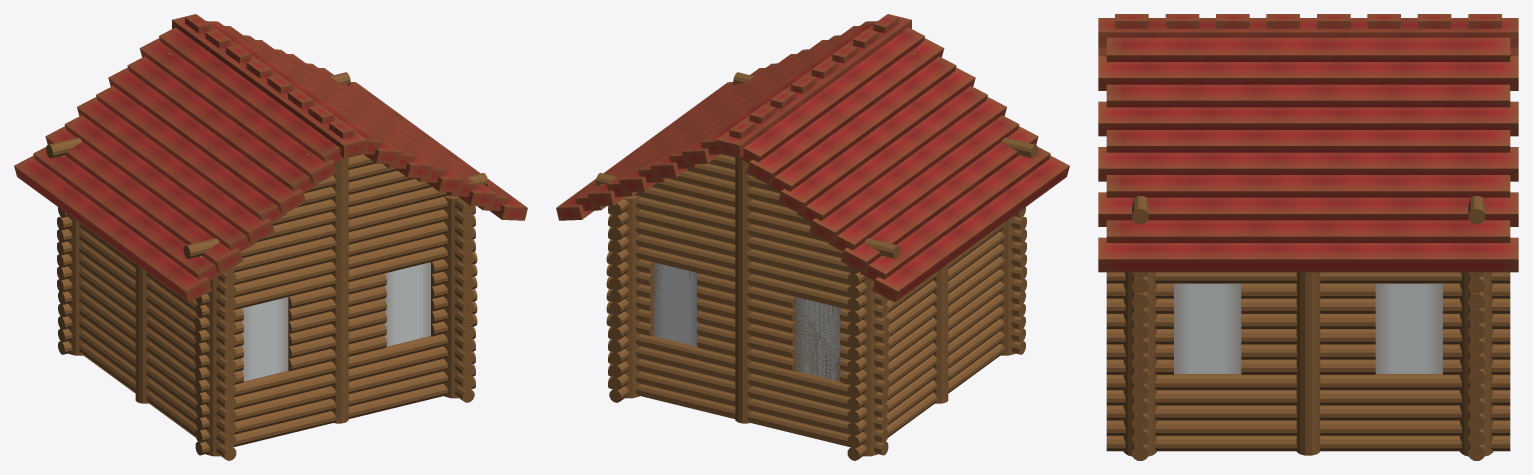
The picture shows the model from 3 angles, left to right: view 1: azimuth 30°, elevation 25°; view 2: azimuth 150°, elevation 25°; view 3: azimuth 270°, elevation 25°; orthographic projection. The views are drawn at different scales.
Visible parts, largest first — view 1: cube_27, cube_9, cube_11, cube_15, cube_7, cube_10, cube_12, cube_13, cube_16, cube_8, cylinder_23, cube_30 (+48 smaller); view 2: cube_27, cube_9, cube_11, cube_15, cube_7, cube_10, cube_12, cube_13, cube_16, cube_8, cylinder_22, cube_33 (+48 smaller); view 3: cube_28, cube_17, cube_4, cube_2, cube_14, cube_6, cube, cube_3, cube_1, cube_5, cube_31, cube_32 (+38 smaller).
Part boxes in pixels (bbox=[...]): cube_27: bbox=[14, 155, 211, 302]; cube_9: bbox=[108, 67, 305, 214]; cube_11: bbox=[77, 96, 274, 243]; cube_15: bbox=[139, 38, 337, 184]; cube_7: bbox=[127, 56, 318, 192]; cube_10: bbox=[96, 86, 286, 222]; cube_12: bbox=[64, 115, 255, 251]; cube_13: bbox=[45, 126, 242, 273]; cube_16: bbox=[159, 27, 346, 163]; cube_8: bbox=[33, 147, 223, 280]; cylinder_23: bbox=[331, 157, 348, 423]; cube_30: bbox=[241, 297, 288, 381]; cube_27: bbox=[872, 155, 1069, 302]; cube_9: bbox=[778, 67, 975, 214]; cube_11: bbox=[809, 96, 1006, 243]; cube_15: bbox=[746, 38, 944, 184]; cube_7: bbox=[765, 56, 956, 192]; cube_10: bbox=[797, 86, 987, 222]; cube_12: bbox=[828, 115, 1019, 251]; cube_13: bbox=[841, 126, 1038, 273]; cube_16: bbox=[737, 27, 924, 163]; cube_8: bbox=[860, 147, 1050, 280]; cylinder_22: bbox=[735, 157, 752, 423]; cube_33: bbox=[795, 297, 842, 381]; cube_28: bbox=[1098, 237, 1518, 272]; cube_17: bbox=[1106, 37, 1510, 61]; cube_4: bbox=[1098, 101, 1518, 136]; cube_2: bbox=[1098, 147, 1518, 181]; cube_14: bbox=[1098, 56, 1518, 90]; cube_6: bbox=[1106, 84, 1510, 107]; cube: bbox=[1098, 192, 1518, 226]; cube_3: bbox=[1106, 130, 1510, 152]; cube_1: bbox=[1106, 175, 1510, 197]; cube_5: bbox=[1106, 220, 1510, 242]; cube_31: bbox=[1174, 283, 1241, 373]; cube_32: bbox=[1375, 283, 1442, 373].
Size of the model in its own units: 120 by 99.33 by 104.
1 material, 1 textured.
